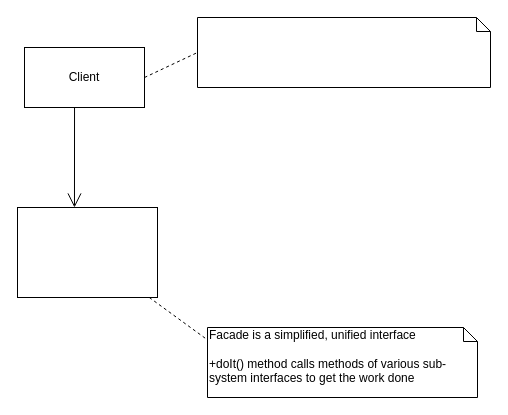
This 508x415 diagram has some shape labels left out. The centre of each missing label's shape, as x and y in pixels:
"<<interface>> Facade +doIt(): void" goes at [87,252].
"Facade f = new Facade(); f.doIt()" goes at [343,52].
